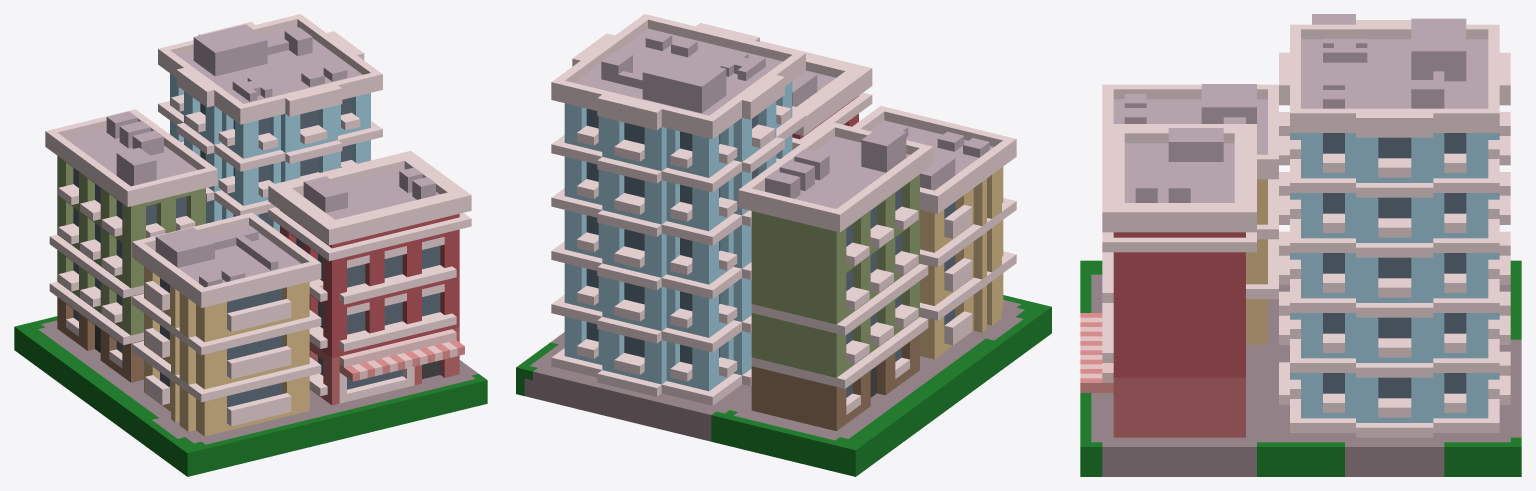
File: CitySmall.fbx
The picture shows the model from 3 angles, left to right: view 1: azimuth 30°, elevation 25°; view 2: azimuth 150°, elevation 25°; view 3: azimuth 270°, elevation 25°; orthographic projection. The views are drawn at different scales.
Parts seen in each view (by area): view 1: CitySmall; view 2: CitySmall; view 3: CitySmall.
Boxes of the visible parts, left/top/right/bottom form: CitySmall: left=14, top=14, right=487, bottom=476; CitySmall: left=516, top=14, right=1051, bottom=476; CitySmall: left=1080, top=14, right=1521, bottom=476.
Bounding box in the file's own units: 4000 × 3700 × 4000.
